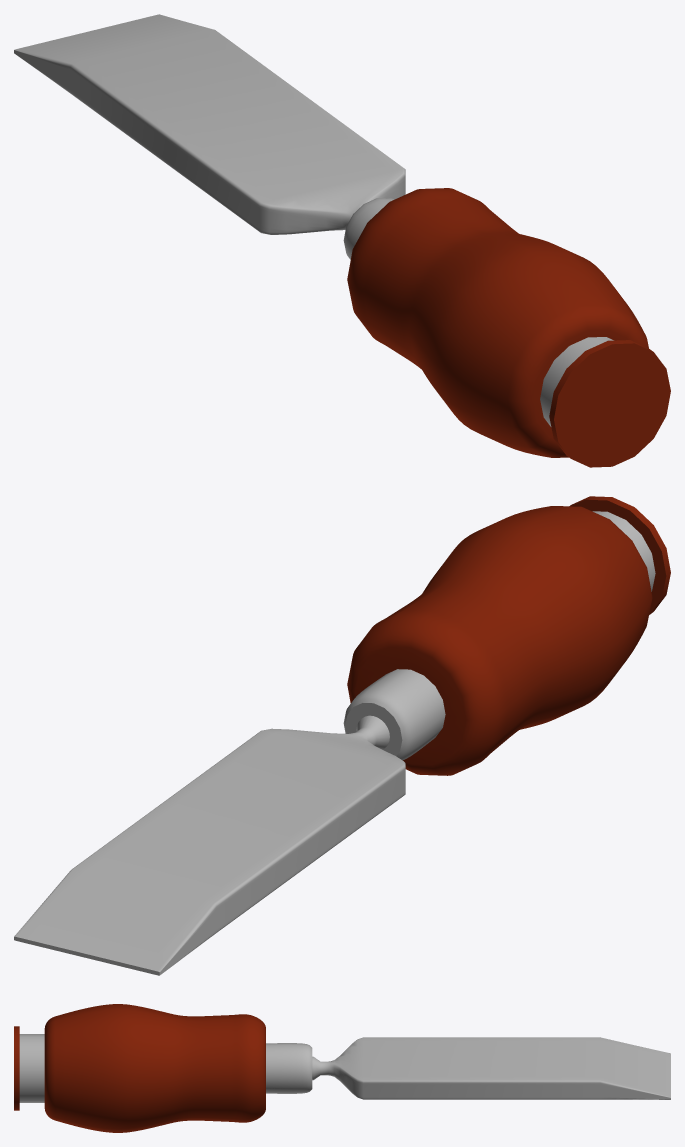
File: RectangleTool.FBX
The picture shows the model from 3 angles, top to bottom: view 1: azimuth 30°, elevation 25°; view 2: azimuth 150°, elevation 25°; view 3: azimuth 270°, elevation 25°; orthographic projection. The views are drawn at different scales.
Visible parts, largest first — view 1: RectangleTool; view 2: RectangleTool; view 3: RectangleTool.
Boxes of the visible parts, x1,y1,x2,y2 form: RectangleTool: [14, 14, 670, 467]; RectangleTool: [14, 496, 670, 975]; RectangleTool: [14, 1004, 670, 1132].
Size of the model in its own units: 18.4 by 18.4 by 93.64.
